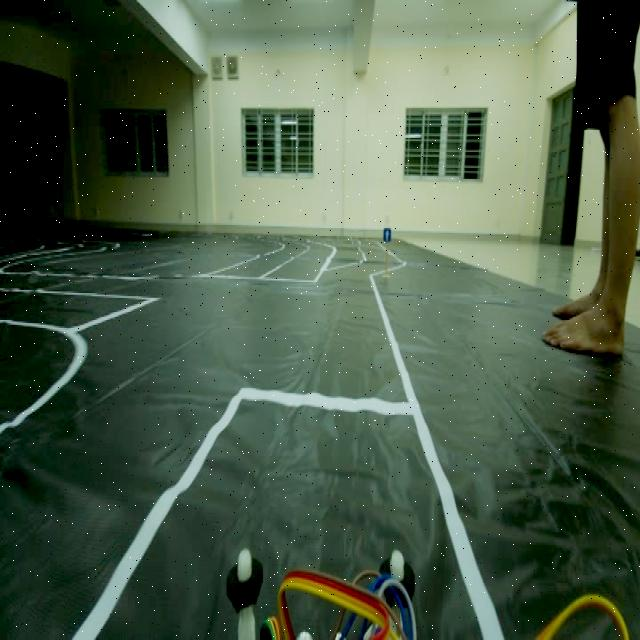onewayroad: (380, 220, 393, 250)
